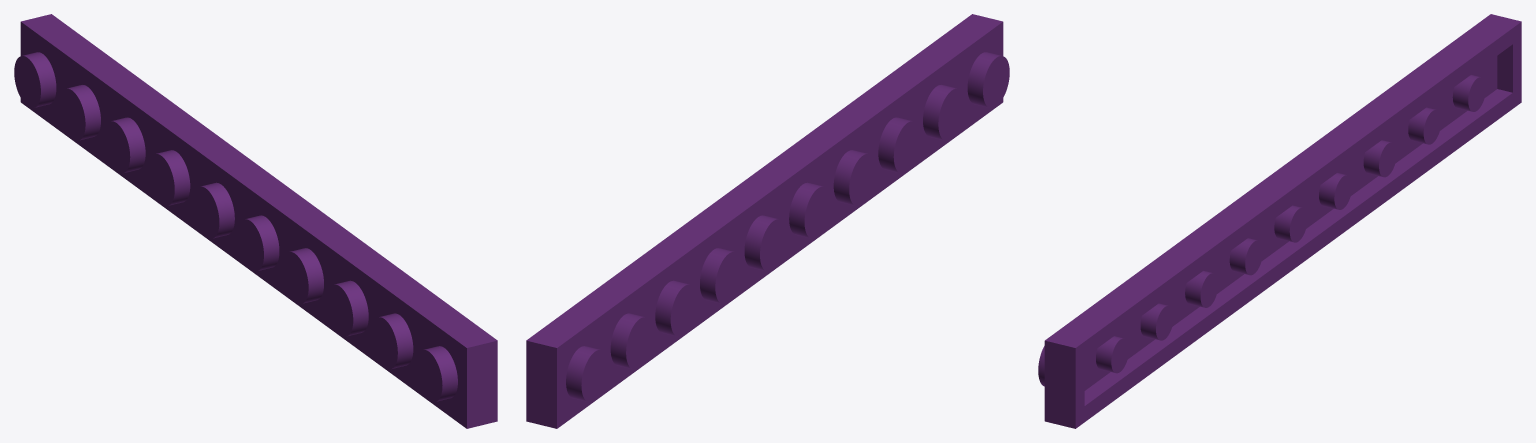
The model's file is plate1*10_medium_lavender.obj.
3 renders of one model, left to right at view 1: azimuth 30°, elevation 25°; view 2: azimuth 150°, elevation 25°; view 3: azimuth 330°, elevation 25°, orthographic.
Bounding box in the file's own units: 12 × 20 × 200.
